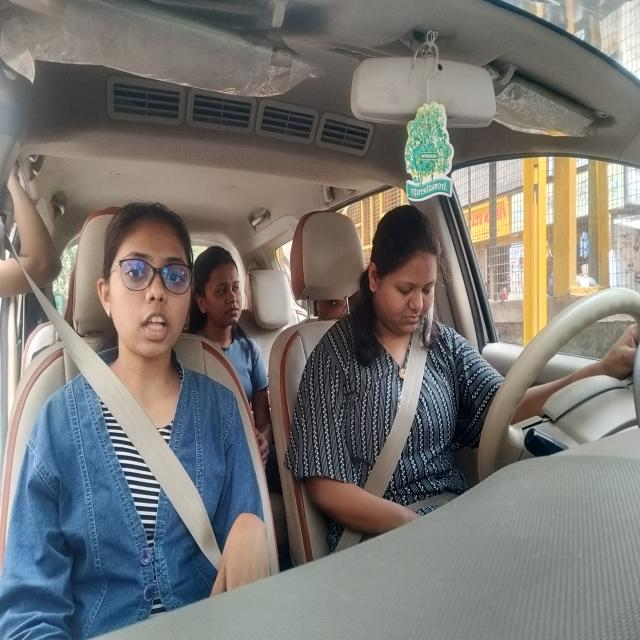drowsy: (363, 207, 442, 343)
person: (103, 222, 200, 368), (190, 253, 248, 326), (308, 299, 356, 326)
